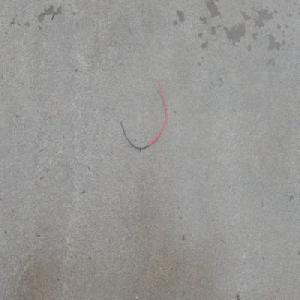Wire: (117, 73, 167, 150)
